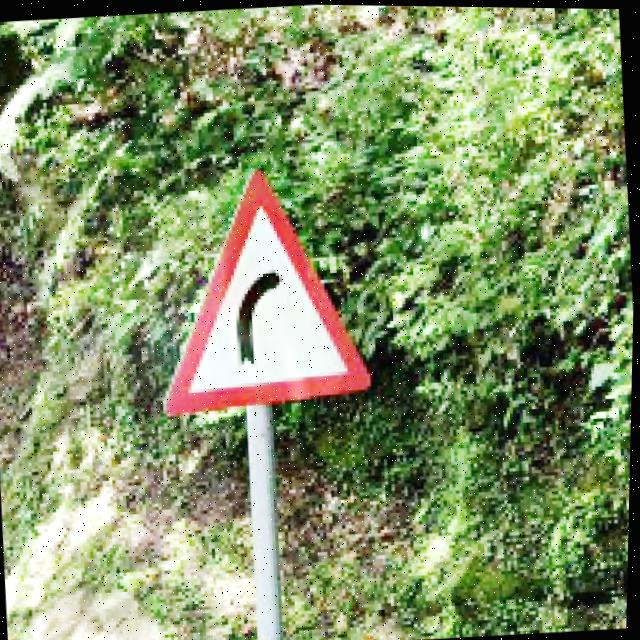rightbend: (169, 173, 375, 416)
